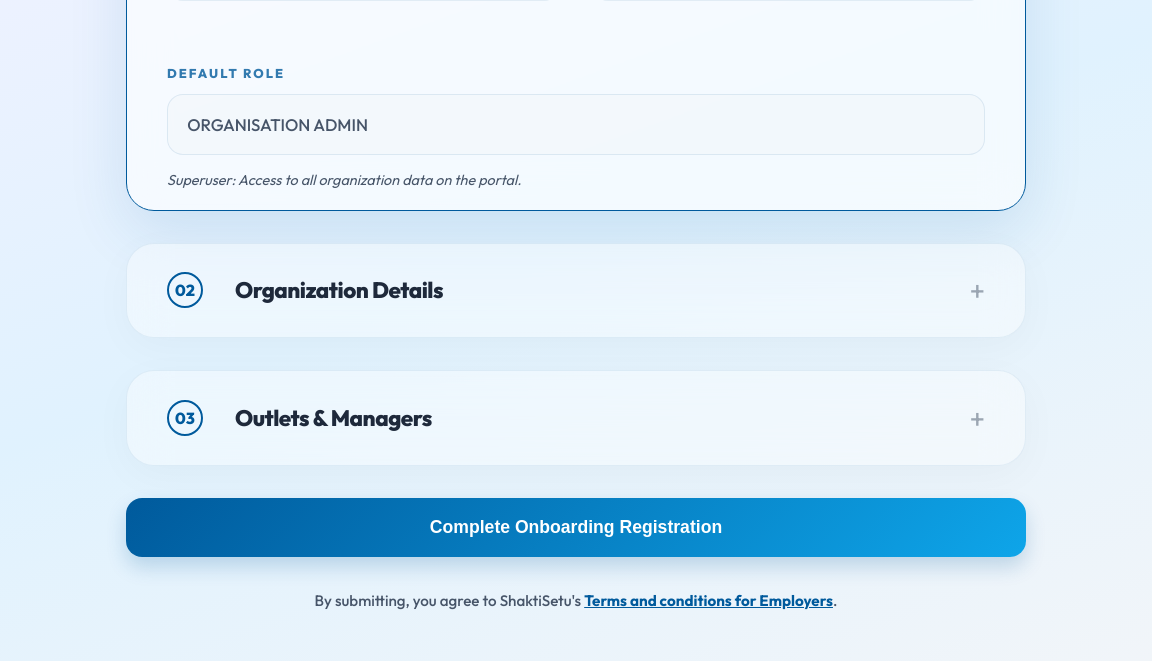
Scenario: OnboardingPage › validates missing fields before submission
(page scrolled)
Click the button "Complete Onboarding Registration" at point(576, 528), box [126, 498, 1026, 557]
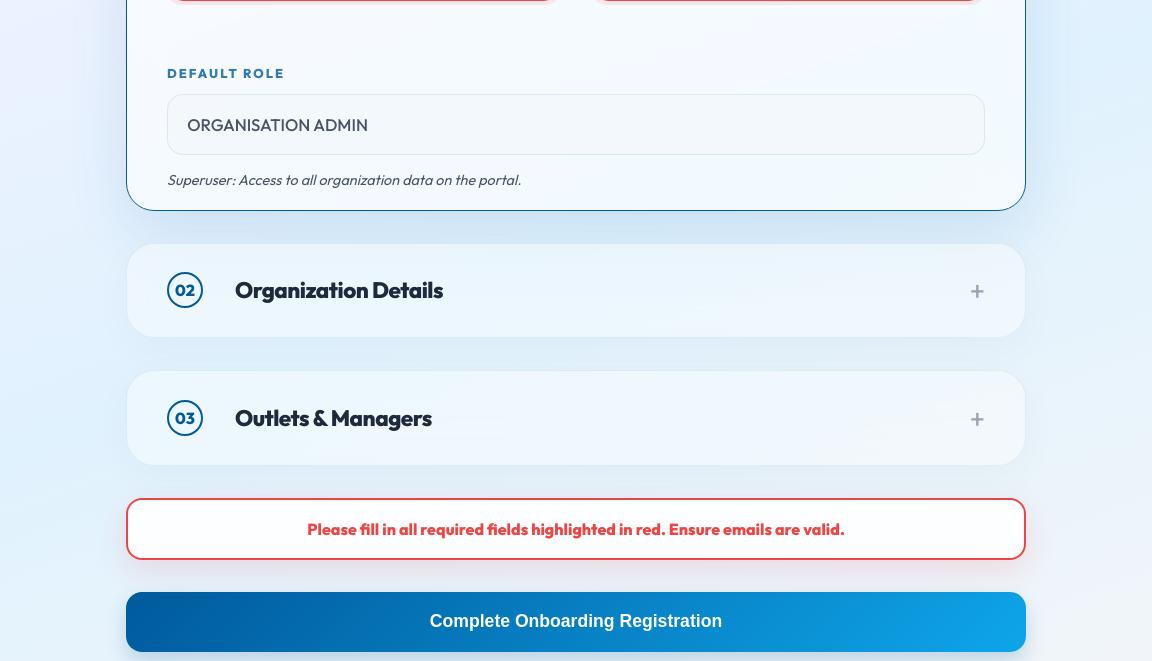
Result: the text "Please fill in all required fields highlighted in red. Ensure emails are valid." is shown at [126, 498, 1026, 560]
